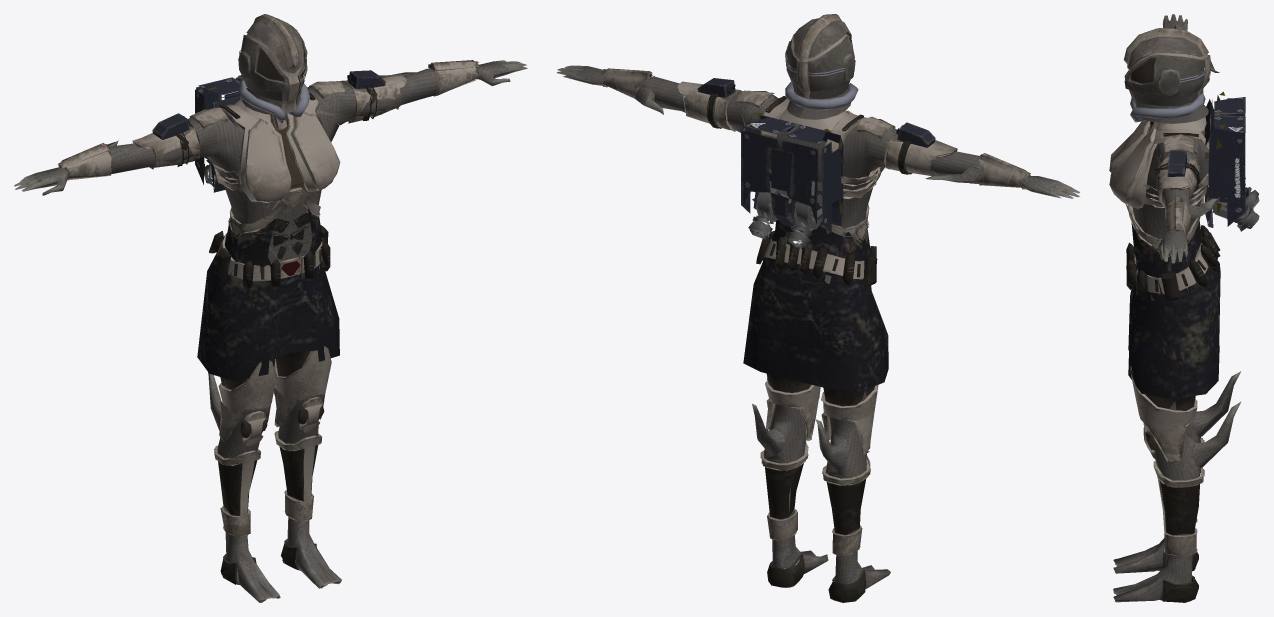
Rendered from desert_sci-fi_game_character1.glb.
The picture shows the model from 3 angles, left to right: view 1: azimuth 30°, elevation 25°; view 2: azimuth 150°, elevation 25°; view 3: azimuth 270°, elevation 25°; orthographic projection. The views are drawn at different scales.
Visible parts, largest first — view 1: character_body_low.003_Material.003_0, mantele_low.004_head_high.002_0, helment_low.003, thigh_low.003_Material.003_0, arm_equipment_low.003_Material.003_0, forearm_equipment_low.003_Material.003_0, backpack_low.003_Material.003_0, knee_low.003_Material.003_0, equipment_low.003_Material.003_0, belt_low.003_Material.003_0, adbomen_low.003_Material.003_0, shoulder_low.004_Material.003_0; view 2: character_body_low.003_Material.003_0, mantele_low.004_head_high.002_0, backpack_low.003_Material.003_0, helment_low.003, arm_equipment_low.003_Material.003_0, thigh_low.003_Material.003_0, forearm_equipment_low.003_Material.003_0, injectors_low.003, shoulder_low.004_Material.003_0, belt_low.003_Material.003_0; view 3: character_body_low.003_Material.003_0, mantele_low.004_head_high.002_0, helment_low.003, backpack_low.003_Material.003_0, thigh_low.003_Material.003_0, arm_equipment_low.003_Material.003_0, belt_low.003_Material.003_0, injectors_low.003, forearm_equipment_low.003_Material.003_0, equipment_low.003_Material.003_0, girdle_low.003_Material.003_0, shoulder_low.004_Material.003_0 (+6 smaller).
Boxes of the visible parts, x1=… form: character_body_low.003_Material.003_0: x1=14, y1=60, x2=527, y2=602; mantele_low.004_head_high.002_0: x1=197, y1=204, x2=339, y2=381; helment_low.003: x1=238, y1=14, x2=310, y2=121; thigh_low.003_Material.003_0: x1=218, y1=322, x2=335, y2=441; arm_equipment_low.003_Material.003_0: x1=132, y1=70, x2=407, y2=169; forearm_equipment_low.003_Material.003_0: x1=58, y1=60, x2=479, y2=180; backpack_low.003_Material.003_0: x1=195, y1=75, x2=289, y2=192; knee_low.003_Material.003_0: x1=240, y1=397, x2=324, y2=446; equipment_low.003_Material.003_0: x1=228, y1=187, x2=320, y2=238; belt_low.003_Material.003_0: x1=217, y1=233, x2=323, y2=281; adbomen_low.003_Material.003_0: x1=252, y1=211, x2=318, y2=259; shoulder_low.004_Material.003_0: x1=189, y1=81, x2=346, y2=128; character_body_low.003_Material.003_0: x1=557, y1=65, x2=1079, y2=602; mantele_low.004_head_high.002_0: x1=743, y1=218, x2=888, y2=391; backpack_low.003_Material.003_0: x1=741, y1=113, x2=843, y2=233; helment_low.003: x1=785, y1=14, x2=858, y2=119; arm_equipment_low.003_Material.003_0: x1=677, y1=78, x2=957, y2=175; thigh_low.003_Material.003_0: x1=765, y1=338, x2=885, y2=454; forearm_equipment_low.003_Material.003_0: x1=600, y1=68, x2=1030, y2=189; injectors_low.003: x1=748, y1=181, x2=822, y2=248; shoulder_low.004_Material.003_0: x1=735, y1=90, x2=895, y2=140; belt_low.003_Material.003_0: x1=764, y1=239, x2=864, y2=279; character_body_low.003_Material.003_0: x1=1109, y1=14, x2=1241, y2=602; mantele_low.004_head_high.002_0: x1=1128, y1=213, x2=1220, y2=398; helment_low.003: x1=1124, y1=28, x2=1211, y2=123; backpack_low.003_Material.003_0: x1=1204, y1=91, x2=1248, y2=227; thigh_low.003_Material.003_0: x1=1130, y1=355, x2=1197, y2=463; arm_equipment_low.003_Material.003_0: x1=1154, y1=150, x2=1200, y2=207; belt_low.003_Material.003_0: x1=1133, y1=235, x2=1208, y2=294; injectors_low.003: x1=1207, y1=177, x2=1259, y2=231; forearm_equipment_low.003_Material.003_0: x1=1165, y1=24, x2=1190, y2=235; equipment_low.003_Material.003_0: x1=1125, y1=185, x2=1203, y2=256; girdle_low.003_Material.003_0: x1=1141, y1=140, x2=1208, y2=207; shoulder_low.004_Material.003_0: x1=1163, y1=134, x2=1193, y2=156.
Bounding box in the file's own units: 1.82 × 1.89 × 0.4632.
2 materials, 2 textured.
